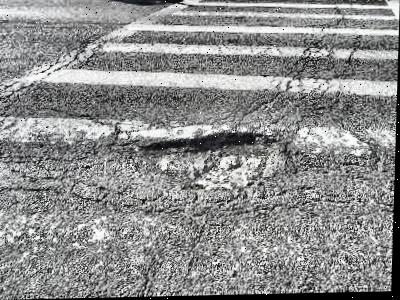pothole: (129, 129, 308, 197)
